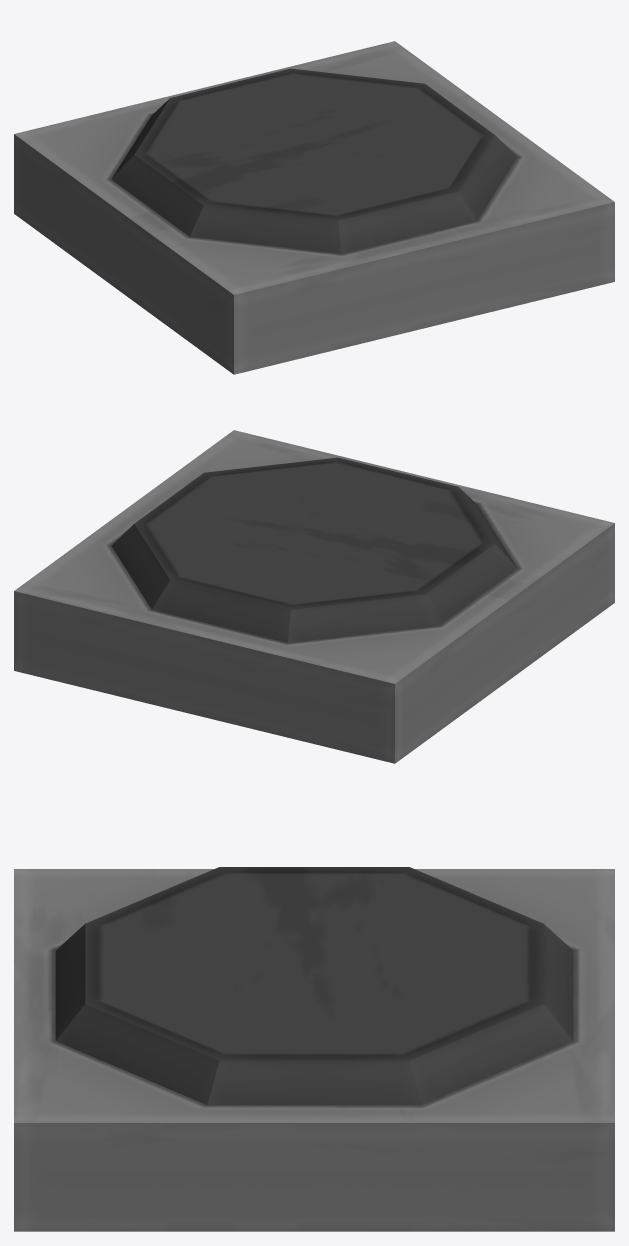
File: obj_interactive_button_off.fbx
The picture shows the model from 3 angles, top to bottom: view 1: azimuth 30°, elevation 25°; view 2: azimuth 150°, elevation 25°; view 3: azimuth 270°, elevation 25°; orthographic projection. The views are drawn at different scales.
Visible parts, largest first — view 1: obj_interactive_button_off_lod0; view 2: obj_interactive_button_off_lod0; view 3: obj_interactive_button_off_lod0.
Part boxes in pixels (x1,y1,x2,y2): obj_interactive_button_off_lod0: (14, 41, 614, 374); obj_interactive_button_off_lod0: (14, 430, 614, 763); obj_interactive_button_off_lod0: (14, 867, 614, 1231).
Size of the model in its own units: 1 by 0.4081 by 1.
Materials: 1 (1 with a texture image).
